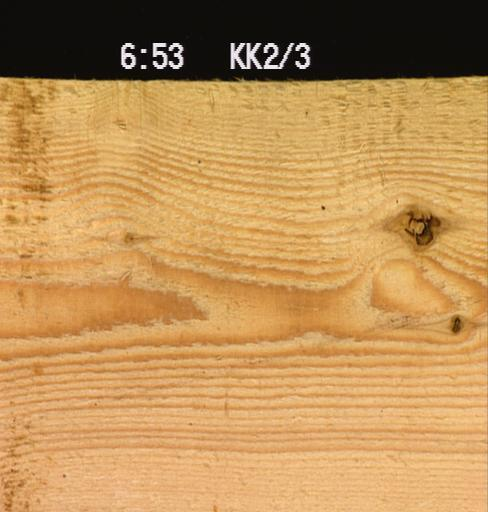dry_knot: (447, 313, 462, 334)
